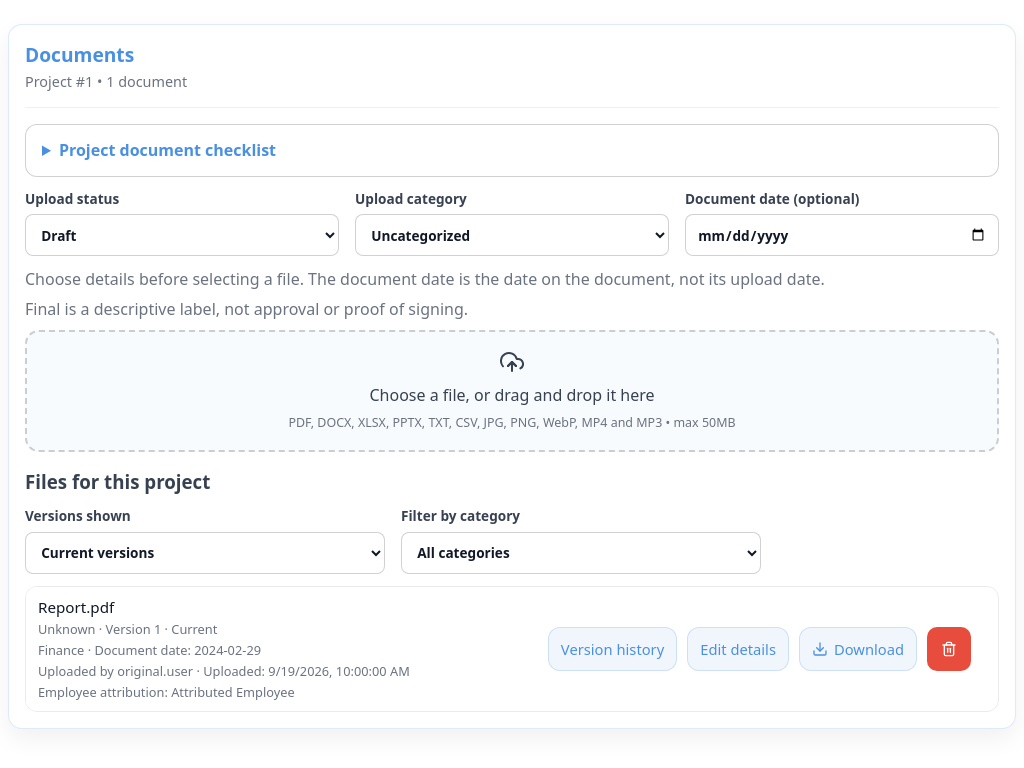
Test case: uses backend labels, preserves a date-only value and separates uploader from employee
The width and height of the screenshot is (1024, 768).
Check: the text "Finance · Document date: 2024-02-29" is shown, box [38, 641, 261, 659]
Check: the text "Uploaded by original.user · Uploaded: 9/19/2026, 10:00:00 AM" is shown, box [38, 662, 410, 680]
Select "Uncategorized" in the dropdown labelled "Filter by category" at (581, 553), box [401, 532, 761, 574]
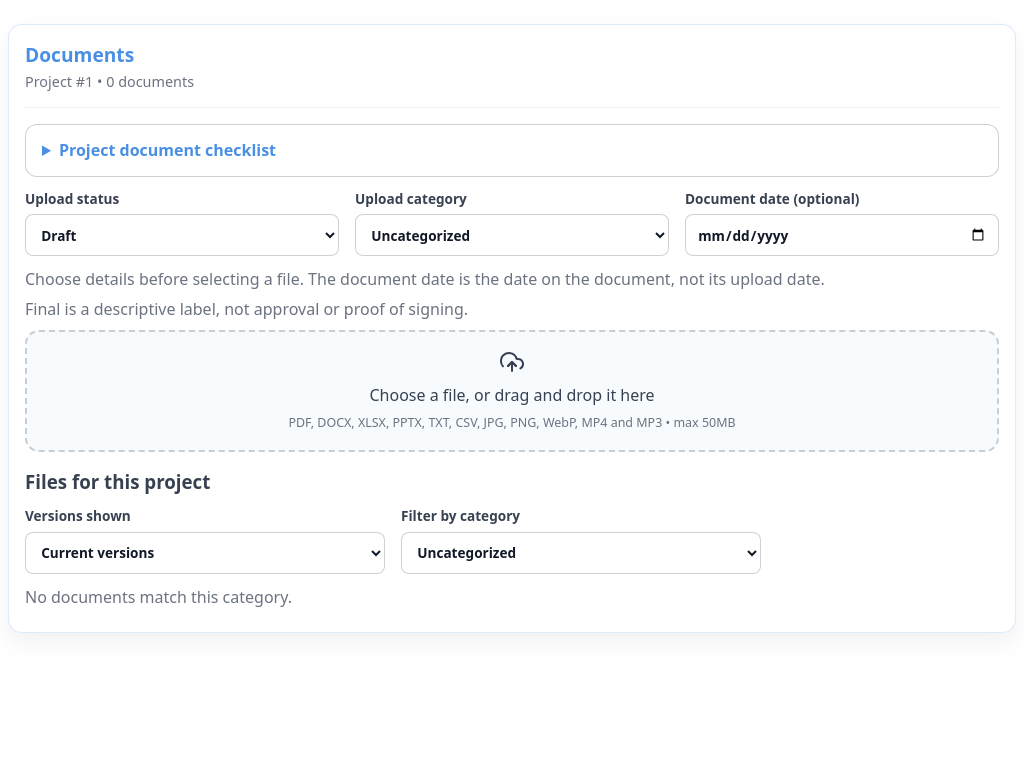
Check: the text "No documents match this category." is shown, box [25, 586, 292, 608]
Select "All categories" in the dropdown labelled "Filter by category" at (581, 553), box [401, 532, 761, 574]
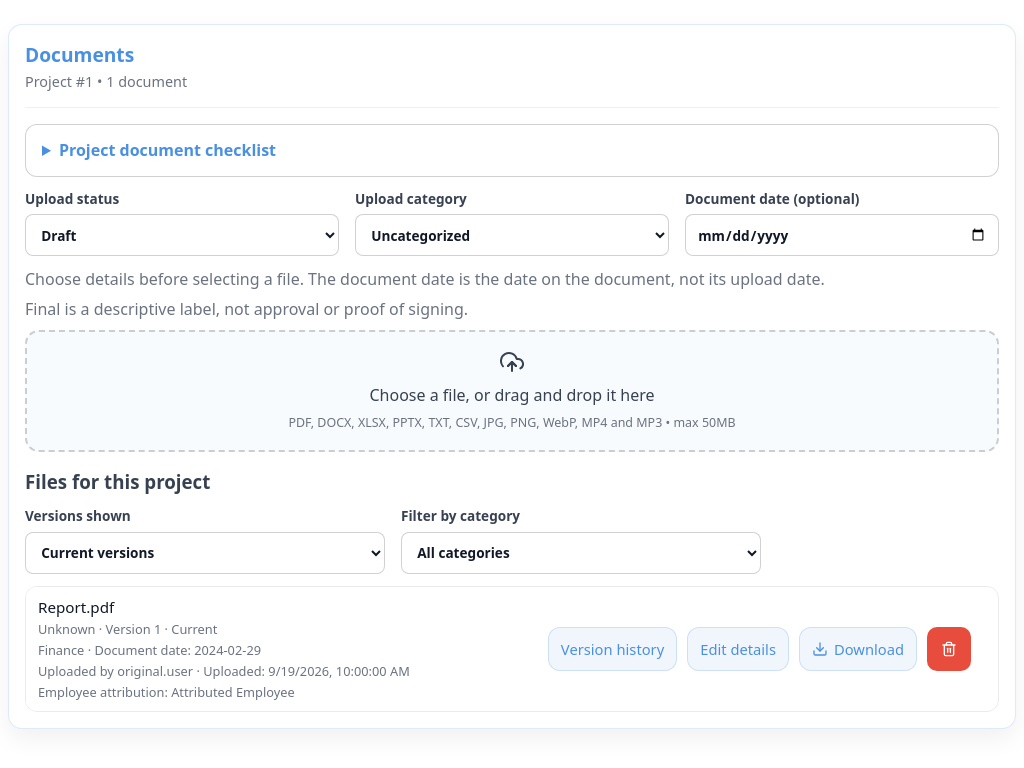
Check: the text "Report.pdf" is shown, box [38, 597, 114, 617]
